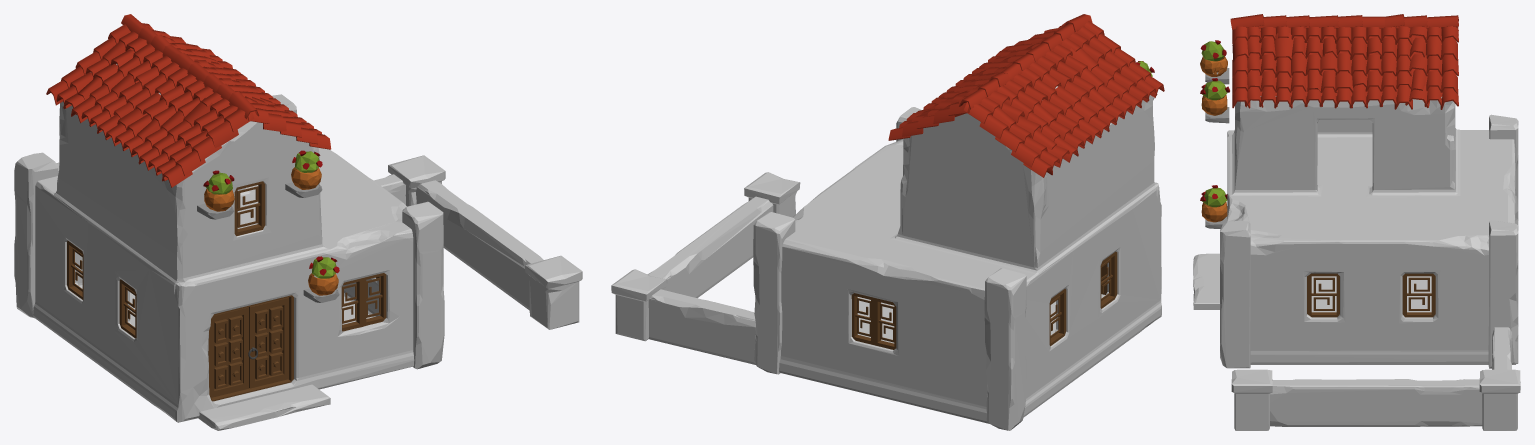
Rendered from SM_building_greek_03.fbx.
3 renders of one model, left to right at view 1: azimuth 30°, elevation 25°; view 2: azimuth 150°, elevation 25°; view 3: azimuth 270°, elevation 25°, orthographic. The views are drawn at different scales.
Visible parts, largest first — view 1: Object485, Box103, Box104; view 2: Object485; view 3: Object485.
Part boxes in pixels (left/top/right/bottom): Object485: left=14, top=14, right=582, bottom=430; Box103: left=248, top=297, right=288, bottom=388; Box104: left=211, top=307, right=248, bottom=397; Object485: left=611, top=14, right=1164, bottom=430; Object485: left=1193, top=14, right=1520, bottom=430.
Bounding box in the file's own units: 408 × 282 × 309.
